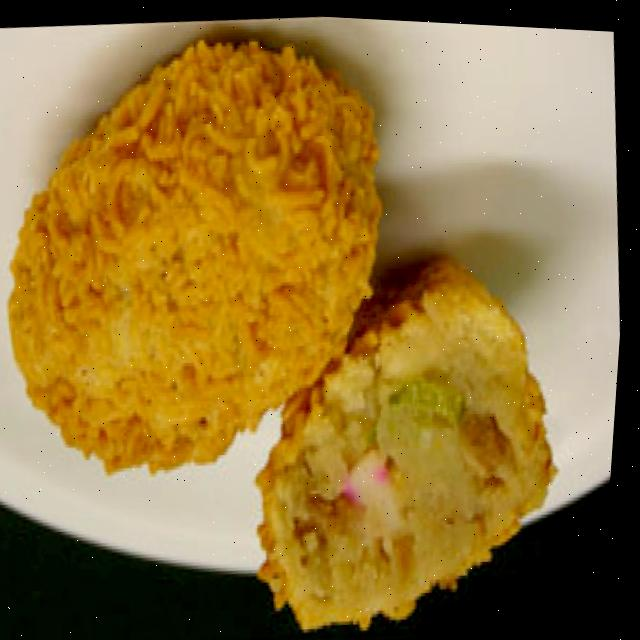炸货点心: (0, 0, 609, 640)
